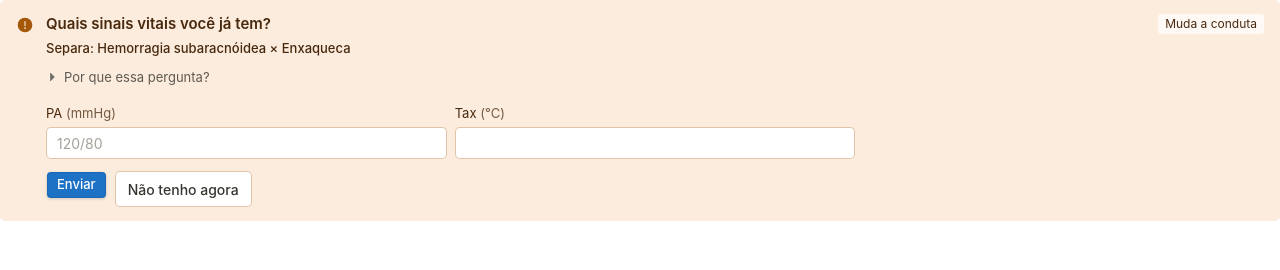
QuestionCard › vital signs › explains how to write a value that does not parse
The image size is (1280, 270).
Type "150" into the field labelled "PA (mmHg)" at (246, 143), box [46,127,447,159]
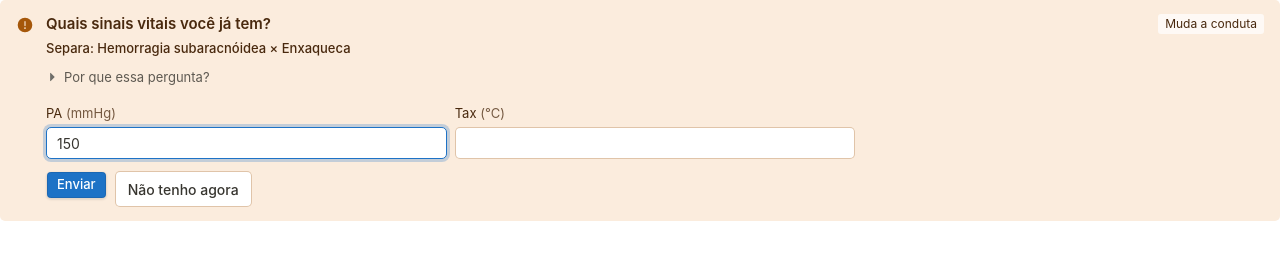
Click the button named "Enviar" at (76, 185), box [46,171,107,199]
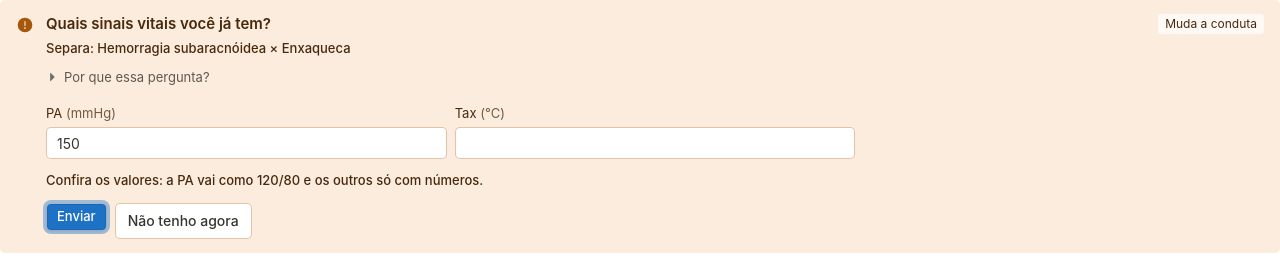
Expected: the message shows "120/80", [46,172,483,188]
